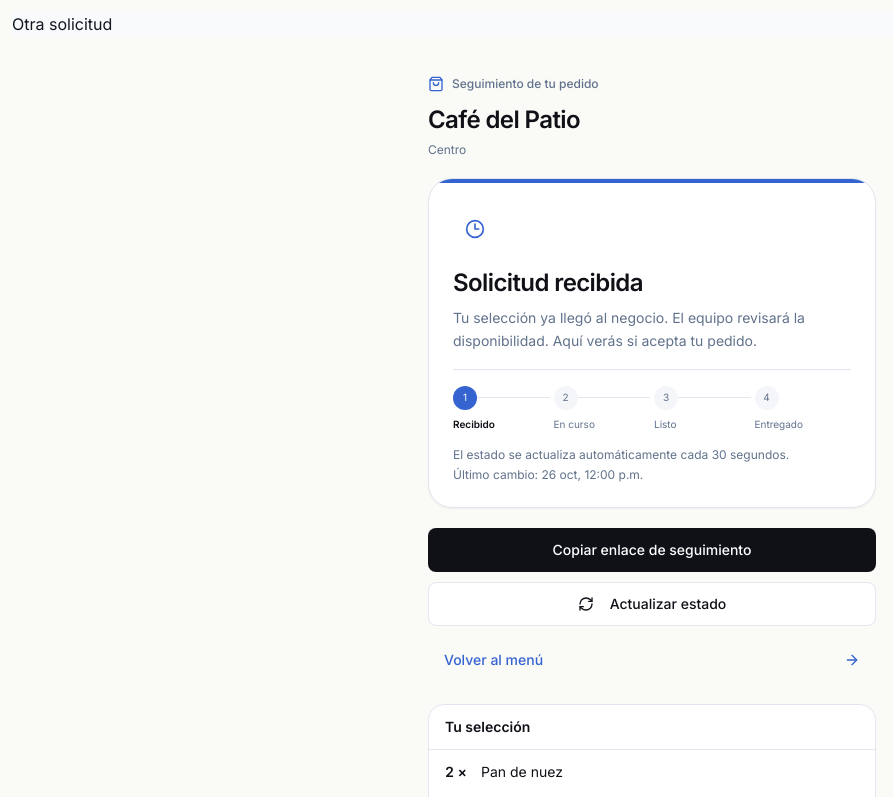
Test: refreshes a genuine state transition and discards the previous state on a failed recheck
Expected: the text "Solicitud recibida" is shown, [453,268,643,297]
Click the button "Actualizar estado" at point(652, 604), box [428,582,876,626]
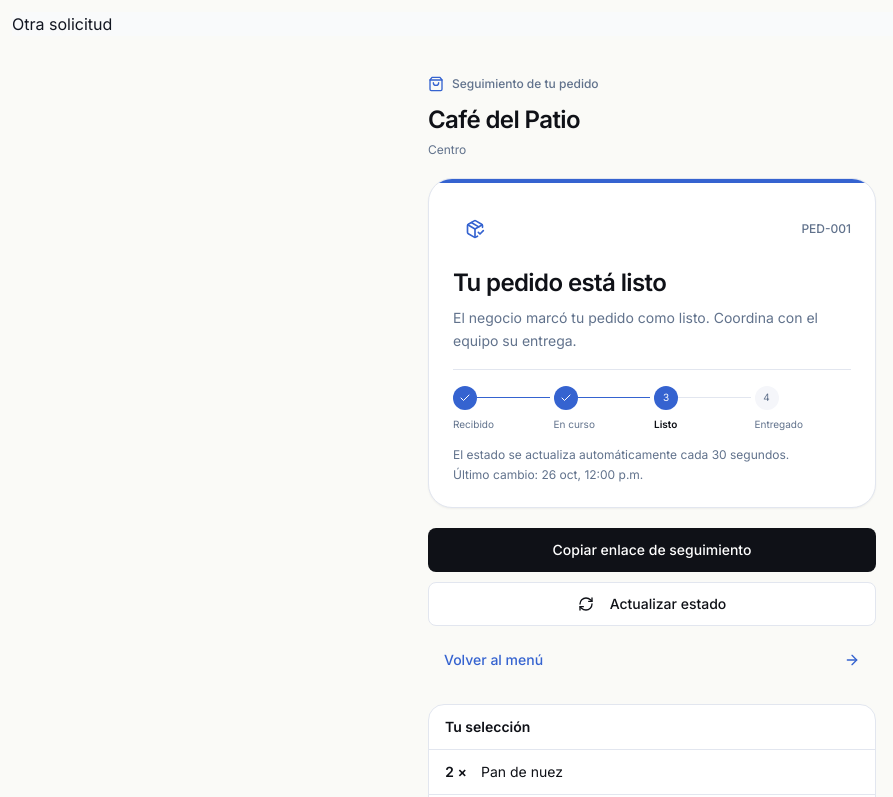
Click the button "Actualizar estado" at point(652, 604), box [428,582,876,626]
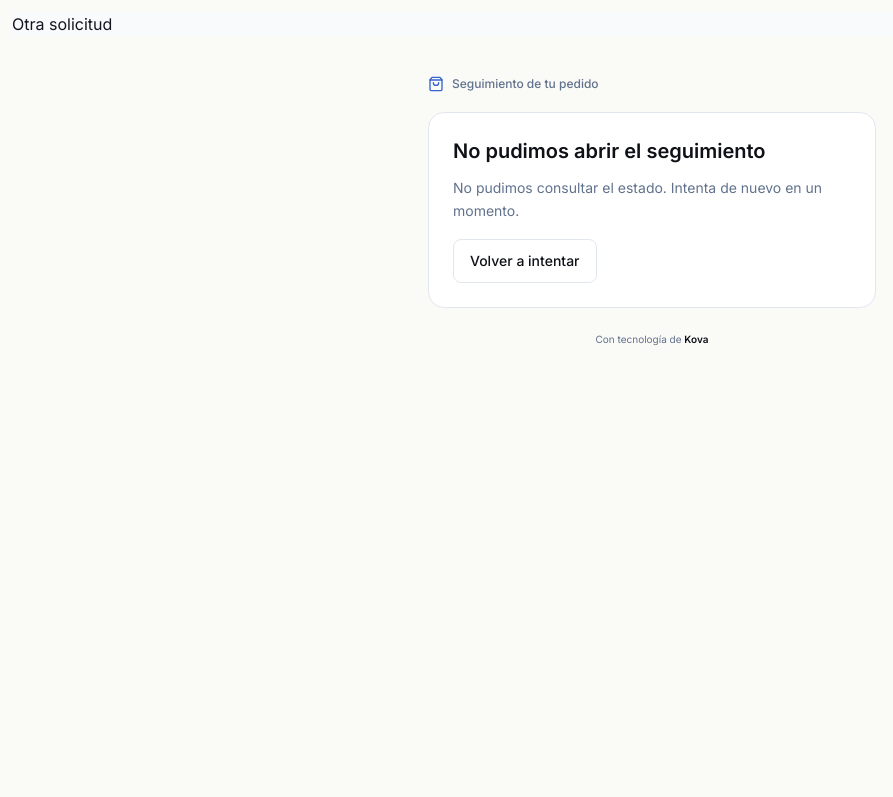
Now the message shows "No pudimos consultar el estado", box [453,179,822,219]
Now the text "Tu pedido está listo" is gone
